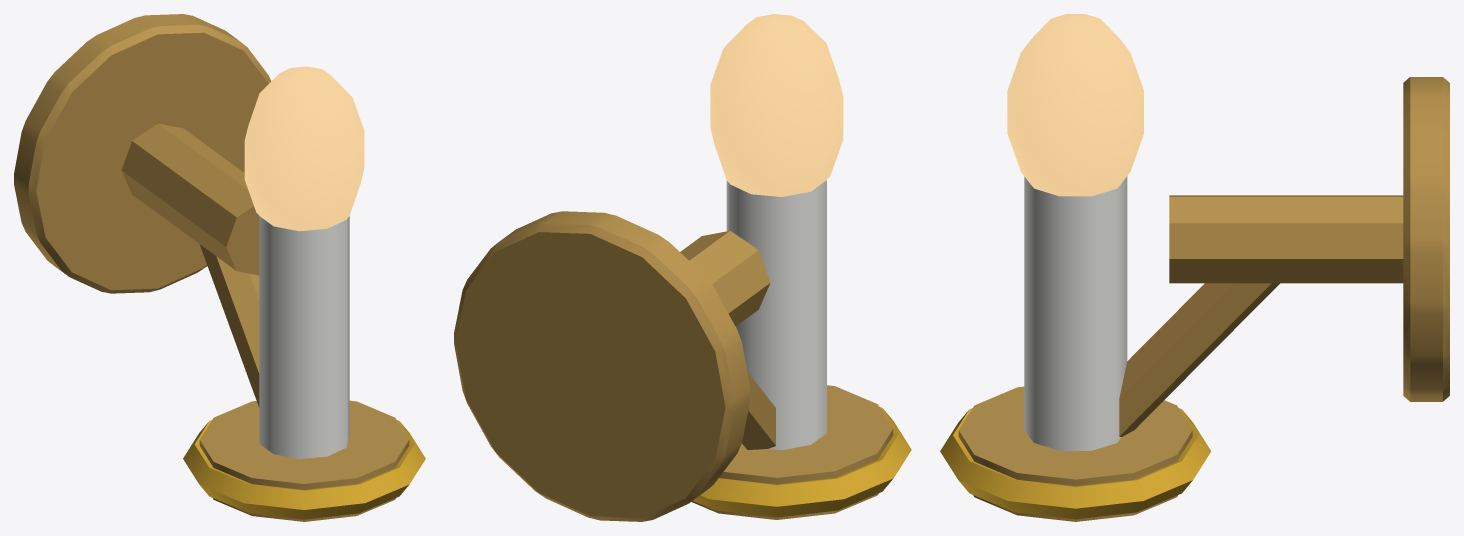
The model's file is sconce_brass_candle_sconce.glb.
3 views of the same model, side by side, from view 1: azimuth 30°, elevation 25°; view 2: azimuth 150°, elevation 25°; view 3: azimuth 270°, elevation 25° (orthographic). The views are drawn at different scales.
Visible parts, largest first — view 1: sconce_brass_candle_sconce; view 2: sconce_brass_candle_sconce; view 3: sconce_brass_candle_sconce.
Boxes of the visible parts, x1,y1,x2,y2 form: sconce_brass_candle_sconce: (14, 14, 425, 521); sconce_brass_candle_sconce: (454, 14, 911, 521); sconce_brass_candle_sconce: (940, 14, 1449, 521).
Size of the model in its own units: 0.1388 by 0.215 by 0.218.
